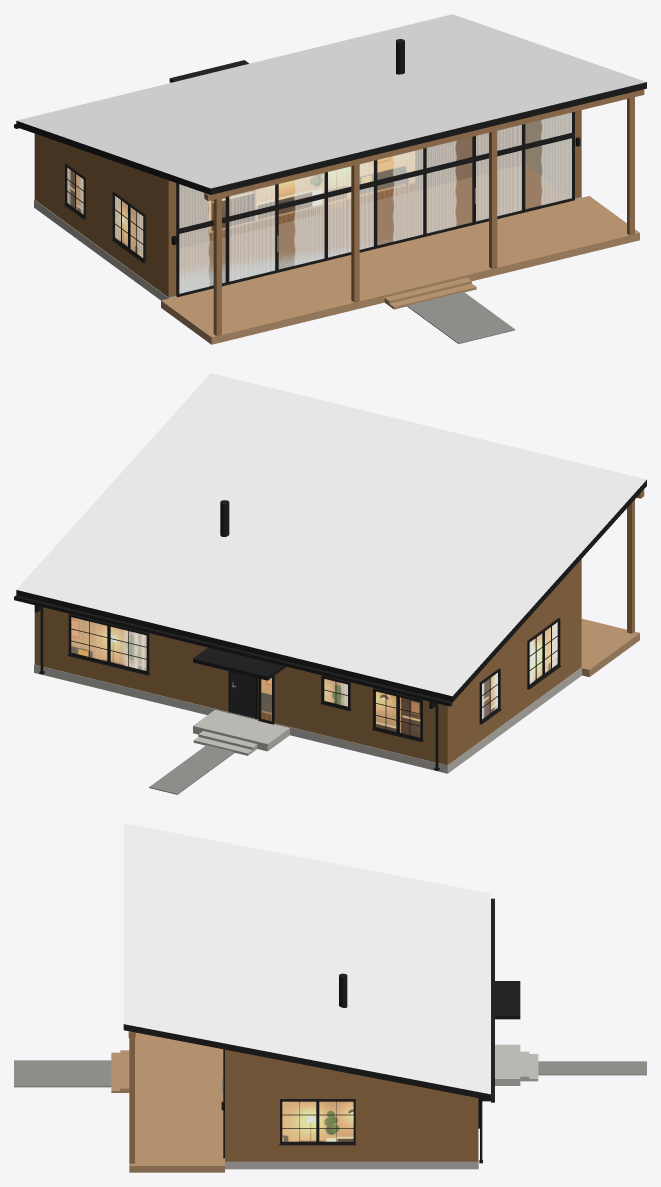
File: kuma144_c0_p0_m1.glb
The picture shows the model from 3 angles, top to bottom: view 1: azimuth 30°, elevation 25°; view 2: azimuth 150°, elevation 25°; view 3: azimuth 270°, elevation 25°; orthographic projection. The views are drawn at different scales.
Parts seen in each view (by area): view 1: roof, glass, soffit, deck, veil, wall, frame, room, fascia, plinth, paving, interior_side (+1 smaller); view 2: roof, wall, fascia, plinth, room, glass, frame, deck, sheer, paving, soffit, door; view 3: roof, wall, deck, fascia, paving, plinth, room, glass, frame, soffit.
Part boxes in pixels (x1,y1,x2,y2): roof: (17, 14, 646, 188); glass: (68, 113, 571, 293); soffit: (179, 89, 644, 335); deck: (161, 196, 639, 344); veil: (179, 113, 571, 293); wall: (34, 110, 581, 297); frame: (64, 112, 574, 297); room: (68, 151, 414, 256); fascia: (14, 60, 646, 194); plinth: (34, 197, 582, 300); paving: (407, 292, 515, 343); interior_side: (525, 113, 571, 197); roof: (16, 373, 646, 696); wall: (34, 559, 581, 765); fascia: (14, 480, 646, 770); plinth: (34, 664, 582, 773); room: (71, 617, 555, 737); glass: (72, 618, 557, 737); frame: (67, 614, 560, 742); deck: (581, 618, 639, 677); sheer: (121, 622, 557, 718); paving: (149, 745, 234, 794); soffit: (627, 490, 644, 633); door: (230, 671, 255, 718); roof: (123, 823, 490, 1094); wall: (225, 1049, 478, 1161); deck: (111, 1032, 224, 1172); fascia: (123, 898, 520, 1163); paving: (14, 1060, 646, 1087); plinth: (224, 1044, 538, 1169); room: (282, 1101, 353, 1141); glass: (283, 1102, 352, 1141); frame: (223, 1049, 479, 1158); soffit: (128, 1031, 135, 1163).
Bounding box in the file's own units: 16.9 × 5.9 × 22.5.
18 materials, 7 textured.
